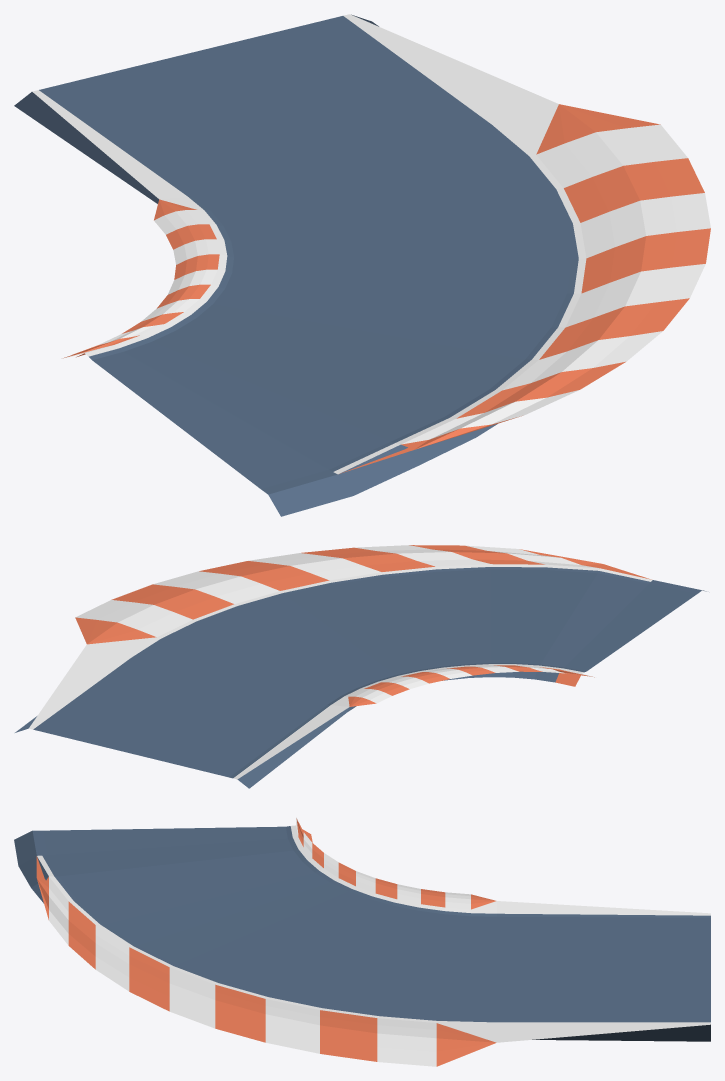
File: Curva.fbx
The picture shows the model from 3 angles, top to bottom: view 1: azimuth 30°, elevation 25°; view 2: azimuth 150°, elevation 25°; view 3: azimuth 270°, elevation 25°; orthographic projection. The views are drawn at different scales.
Parts seen in each view (by area): view 1: Recta; view 2: Recta; view 3: Recta.
Part boxes in pixels (<box>): Recta: <box>14,14,710,516</box>; Recta: <box>15,545,706,788</box>; Recta: <box>14,817,710,1066</box>.
Bounding box in the file's own units: 35.97 × 1.03 × 43.3.
